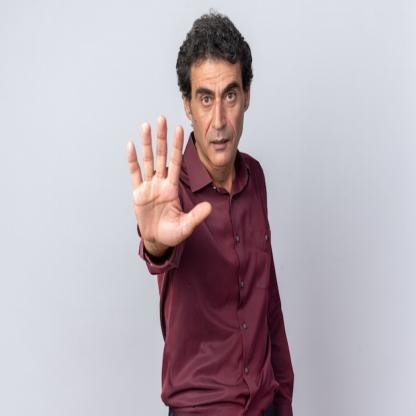stop: (123, 111, 216, 249)
